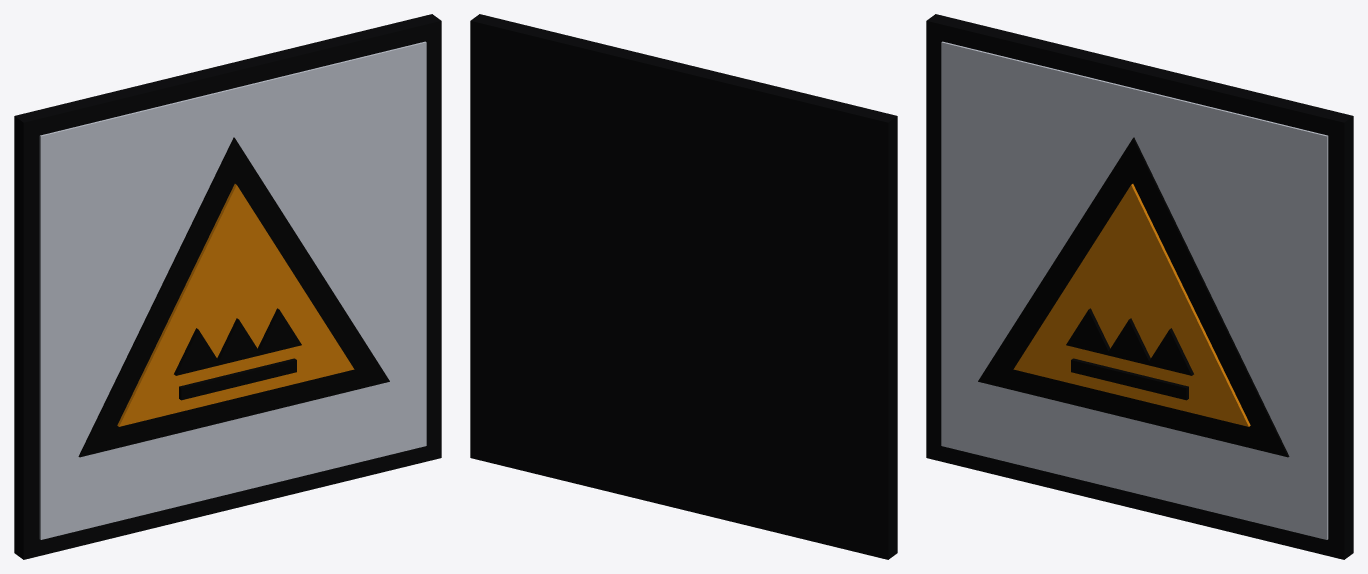
Rendered from SM_Sign_Spikes.glb.
The picture shows the model from 3 angles, left to right: view 1: azimuth 30°, elevation 25°; view 2: azimuth 150°, elevation 25°; view 3: azimuth 330°, elevation 25°; orthographic projection.
Parts seen in each view (by area): view 1: SM_Sign_Spikes; view 2: SM_Sign_Spikes; view 3: SM_Sign_Spikes.
Boxes of the visible parts, left/top/right/bottom form: SM_Sign_Spikes: left=14, top=14, right=441, bottom=559; SM_Sign_Spikes: left=470, top=14, right=897, bottom=559; SM_Sign_Spikes: left=926, top=14, right=1353, bottom=559.
Size of the model in its own units: 0.52 by 0.52 by 0.034.
